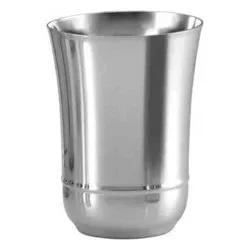glass-tumbler: (48, 10, 204, 239)
